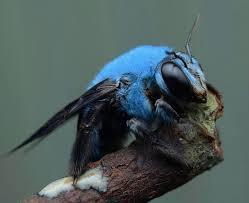Xylocopa: (28, 16, 218, 171)
